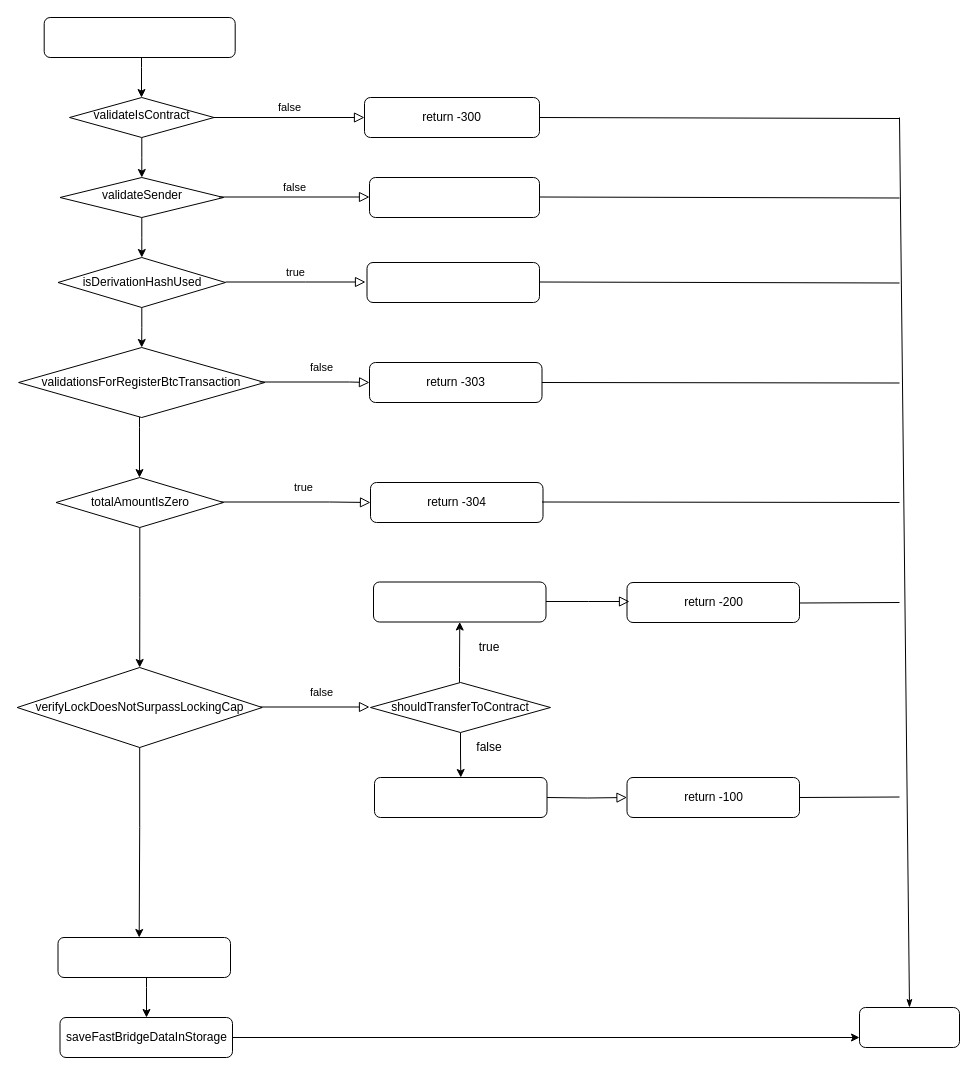
This 978x1075 diagram has some shape labels left out. The box of each missing label's shape, as (x1, y1, x2, y2) in pixels:
End: (858, 1006, 960, 1048)
refund LP: (372, 581, 546, 622)
refund user: (374, 776, 547, 818)
registerFastBridgeBtcTransaction: (43, 16, 235, 58)
return -301: (368, 176, 540, 218)
return -302: (366, 262, 540, 302)
transferToContract: (57, 936, 230, 978)
